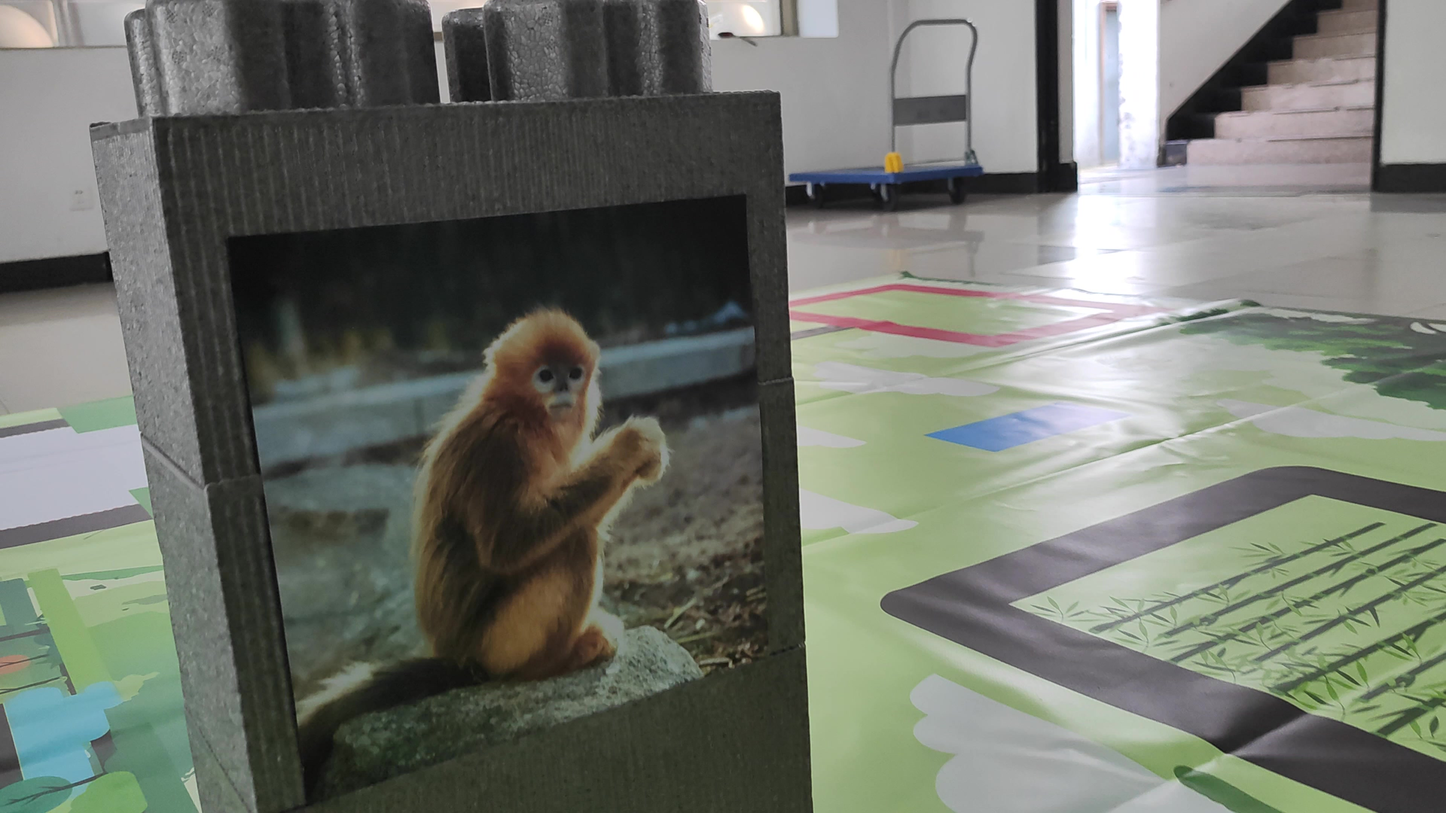monkey: (288, 265, 695, 749)
